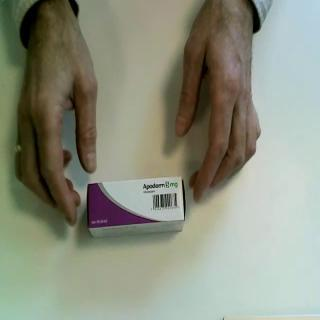apodonorm5mg: (86, 175, 188, 240)
